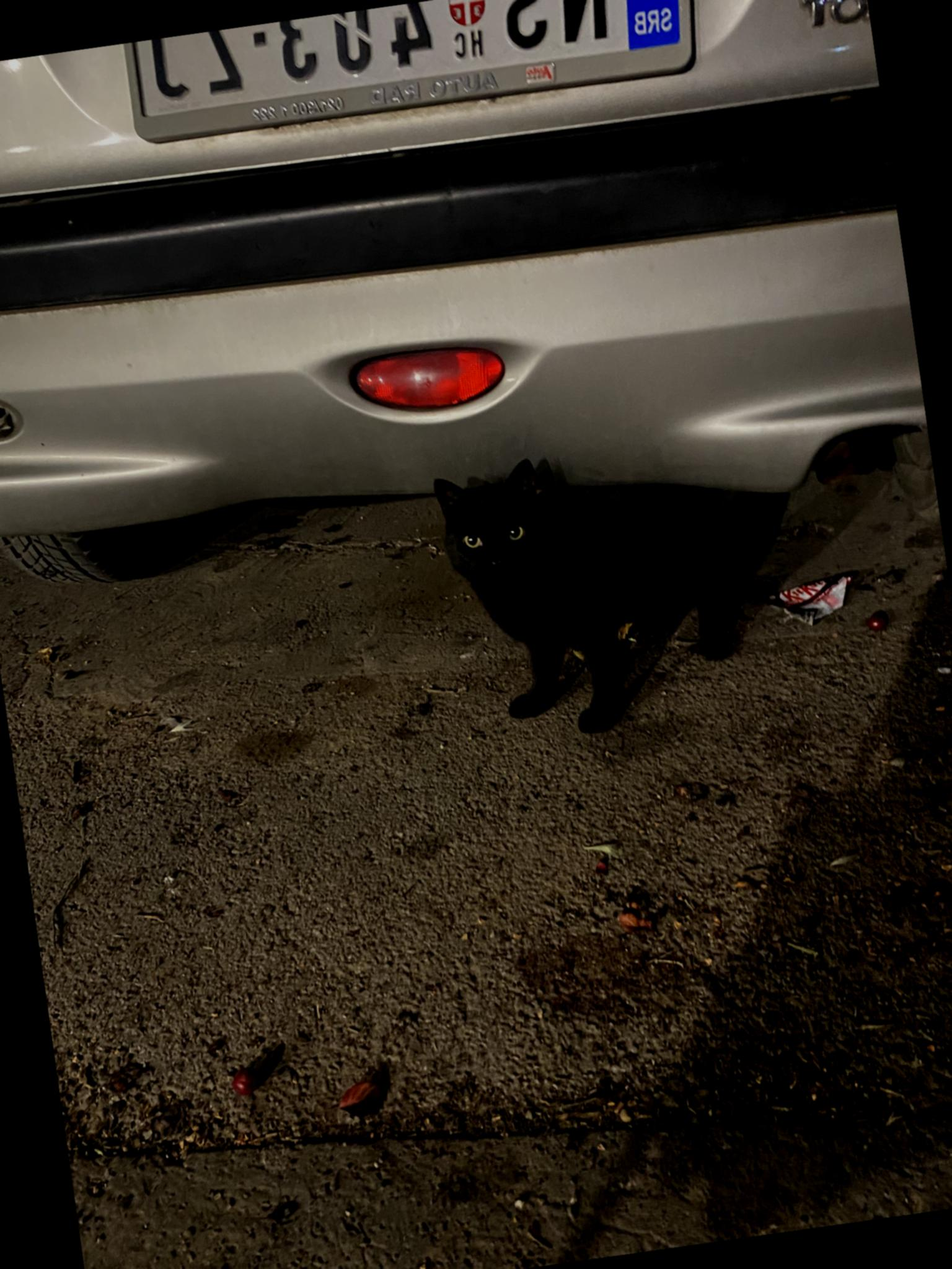macka: (428, 431, 749, 748)
